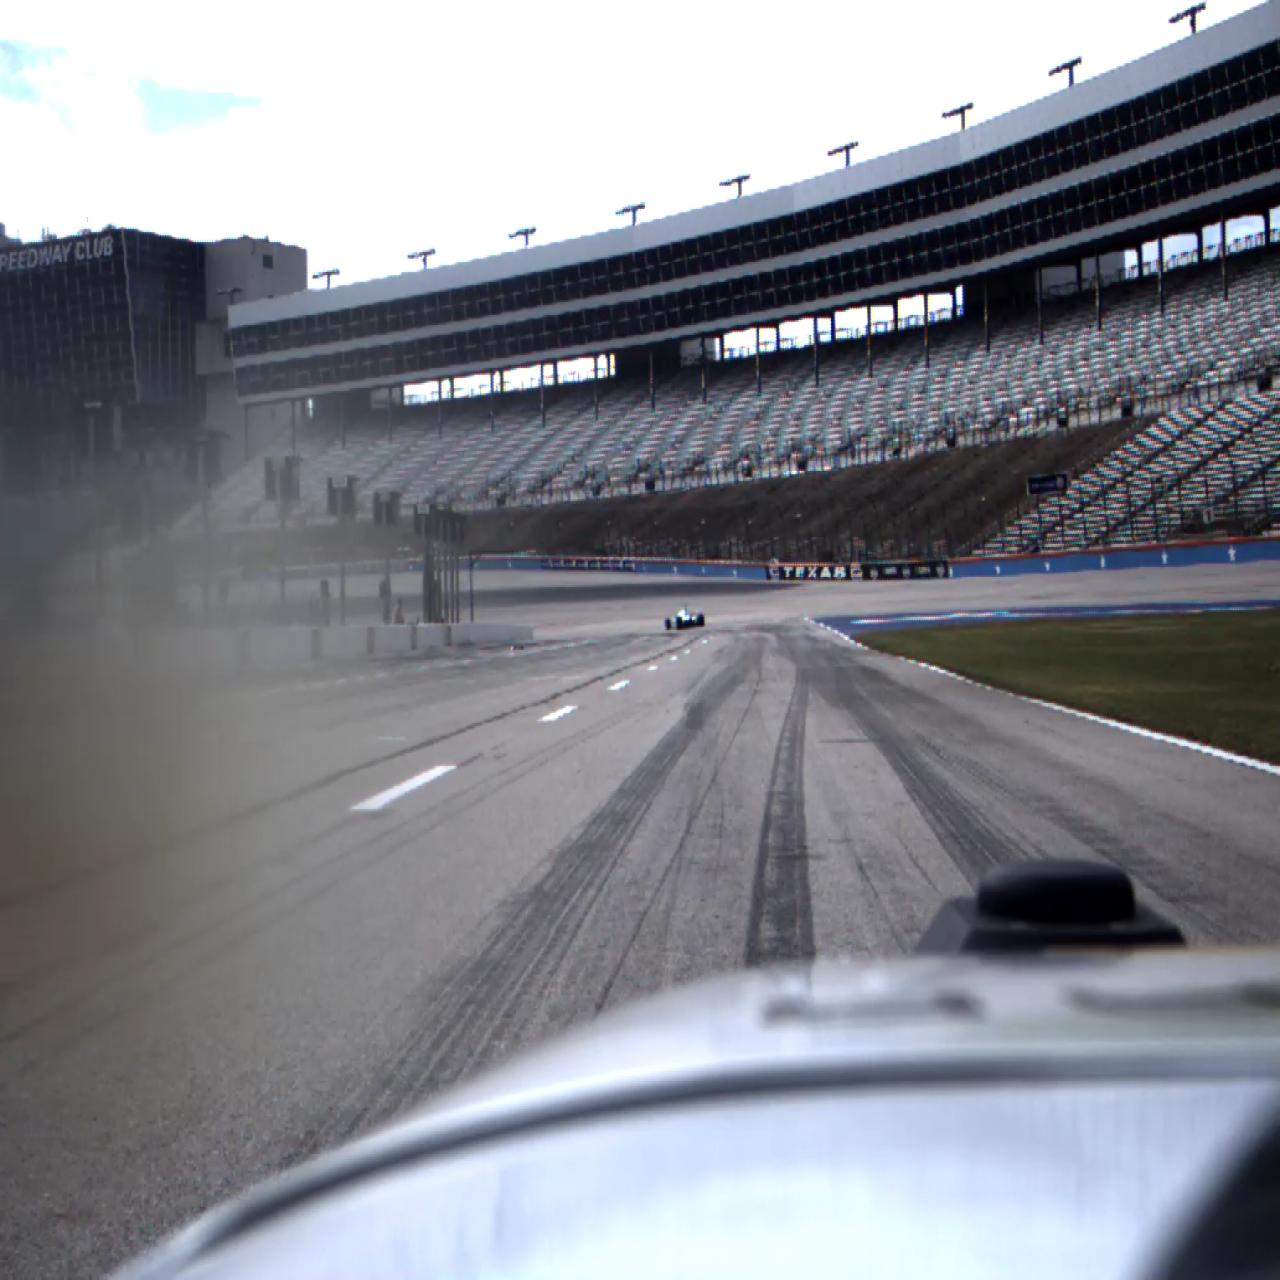AV: (665, 604, 704, 630)
Wheel: (697, 613, 704, 626), (664, 618, 670, 630), (677, 617, 682, 630)
